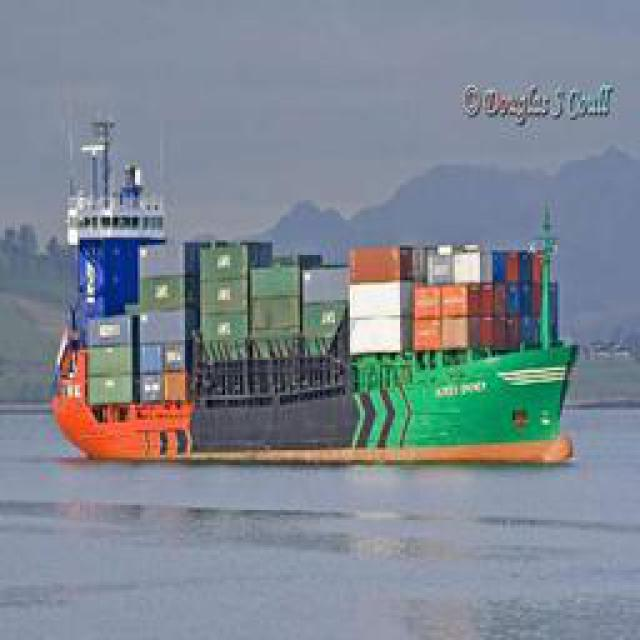Ship: (51, 106, 594, 470)
